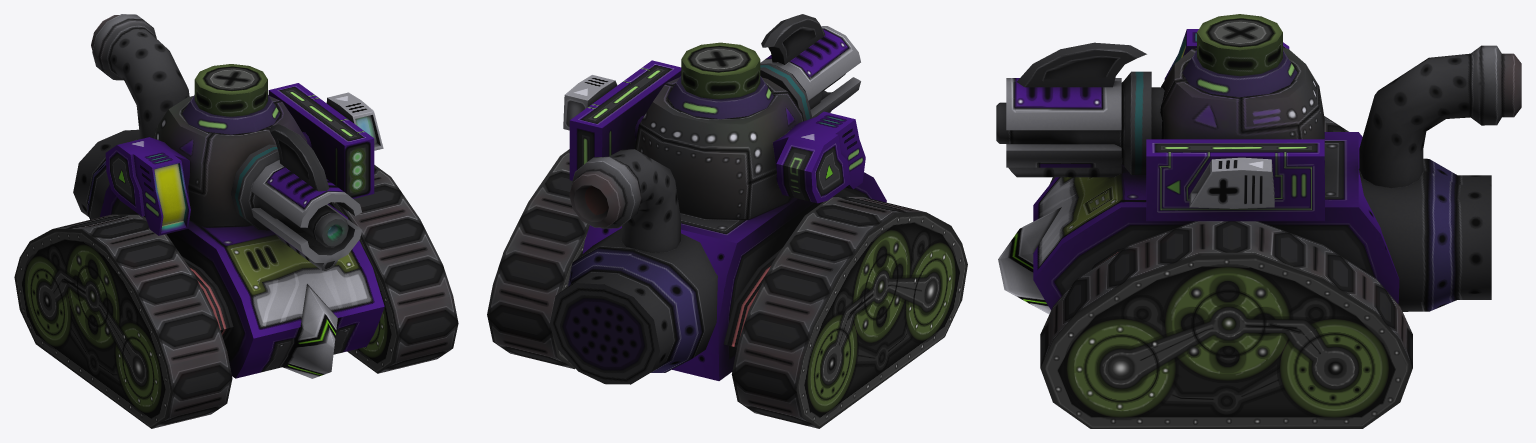
The model's file is singletank1.fbx.
3 renders of one model, left to right at view 1: azimuth 30°, elevation 25°; view 2: azimuth 150°, elevation 25°; view 3: azimuth 270°, elevation 25°, orthographic. The views are drawn at different scales.
Visible parts, largest first — view 1: SciFi Ultra Tank 1.3, SciFi Ultra Tank 1.3_turret (×3); view 2: SciFi Ultra Tank 1.3, SciFi Ultra Tank 1.3_turret (×3); view 3: SciFi Ultra Tank 1.3, SciFi Ultra Tank 1.3_turret (×3).
Boxes of the visible parts, left/top/right/bottom form: SciFi Ultra Tank 1.3: left=14, top=14, right=458, bottom=428; SciFi Ultra Tank 1.3_turret (×3): left=105, top=64, right=383, bottom=270; SciFi Ultra Tank 1.3: left=487, top=149, right=967, bottom=428; SciFi Ultra Tank 1.3_turret (×3): left=563, top=14, right=865, bottom=218; SciFi Ultra Tank 1.3: left=998, top=45, right=1521, bottom=428; SciFi Ultra Tank 1.3_turret (×3): left=996, top=14, right=1324, bottom=221.
Bounding box in the file's own units: 120 × 108 × 163.
